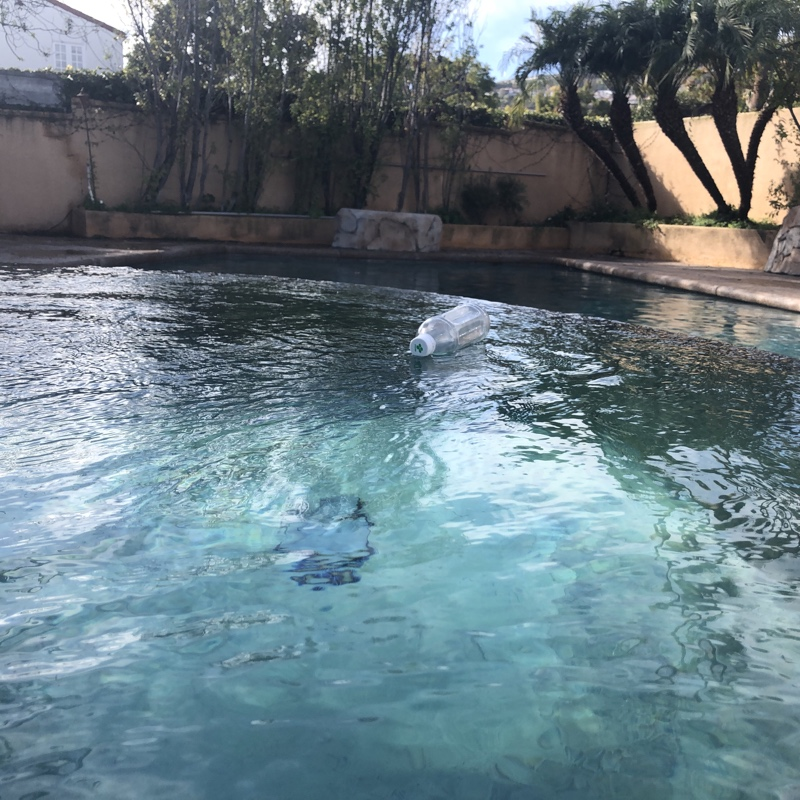Plastic Bottle: (403, 299, 495, 360)
